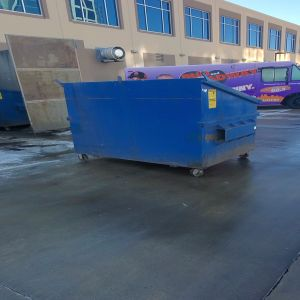Dumpster: (64, 81, 262, 178)
